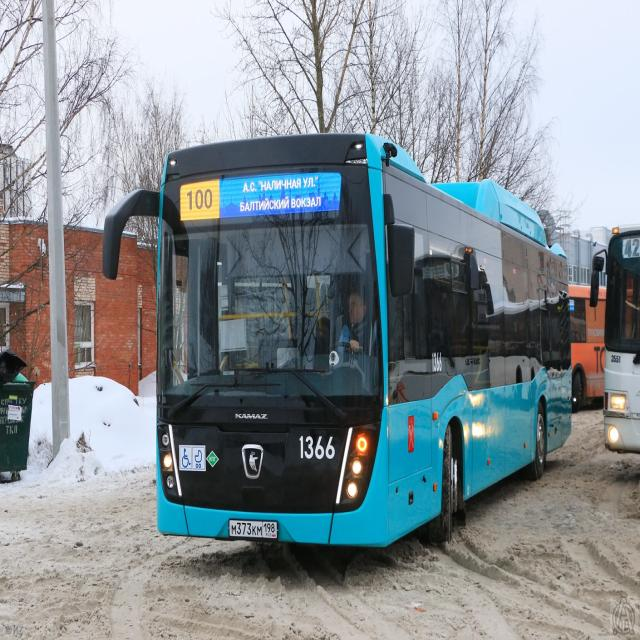number-of-bus: (185, 186, 217, 211)
